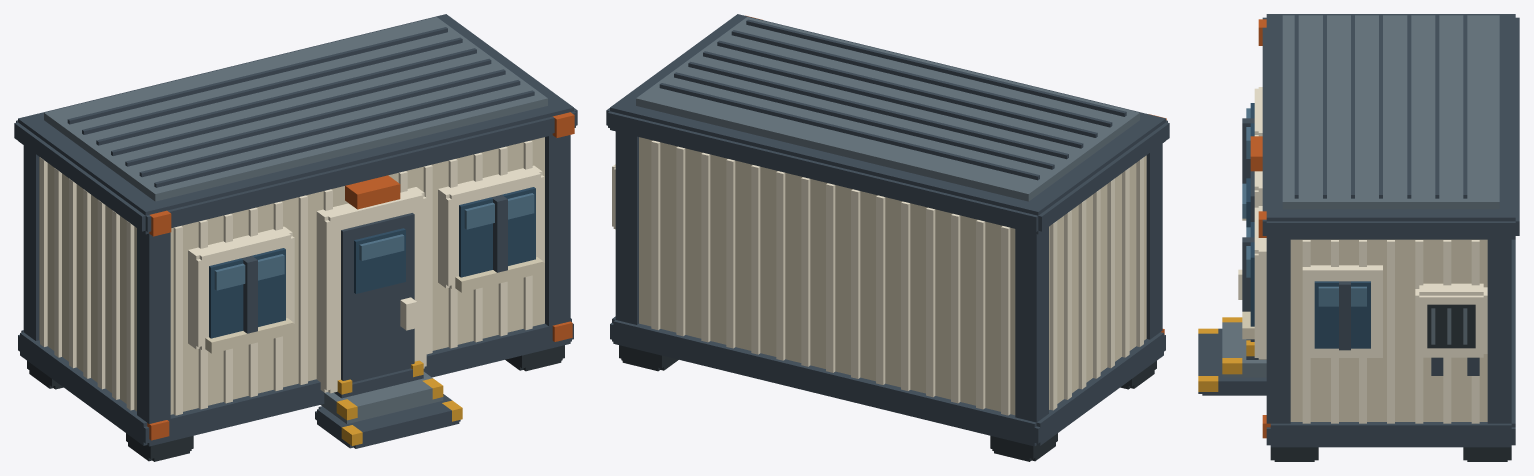
File: site_office.glb
The picture shows the model from 3 angles, left to right: view 1: azimuth 30°, elevation 25°; view 2: azimuth 150°, elevation 25°; view 3: azimuth 270°, elevation 25°; orthographic projection. The views are drawn at different scales.
Visible parts, largest first — view 1: site_office; view 2: site_office; view 3: site_office.
Boxes of the visible parts, bbox=[...] form: site_office: bbox=[14, 14, 577, 461]; site_office: bbox=[606, 14, 1169, 461]; site_office: bbox=[1198, 14, 1519, 461].
Bounding box in the file's own units: 6.25 × 3.55 × 4.
